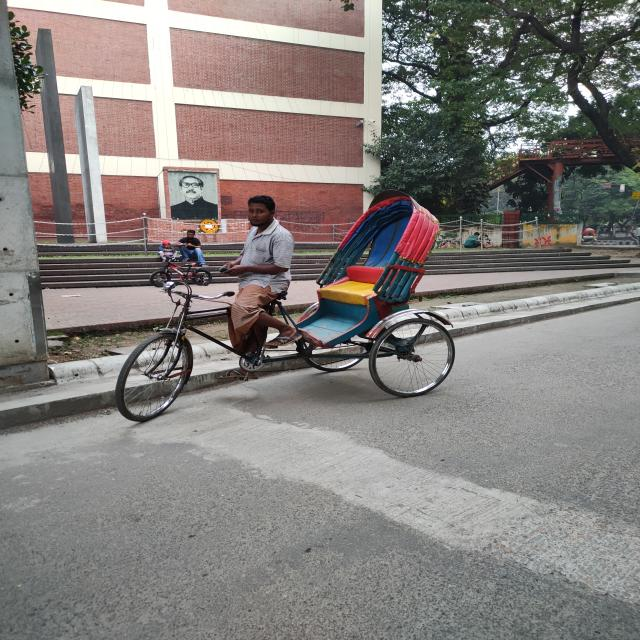rikshaw: (121, 190, 550, 452)
